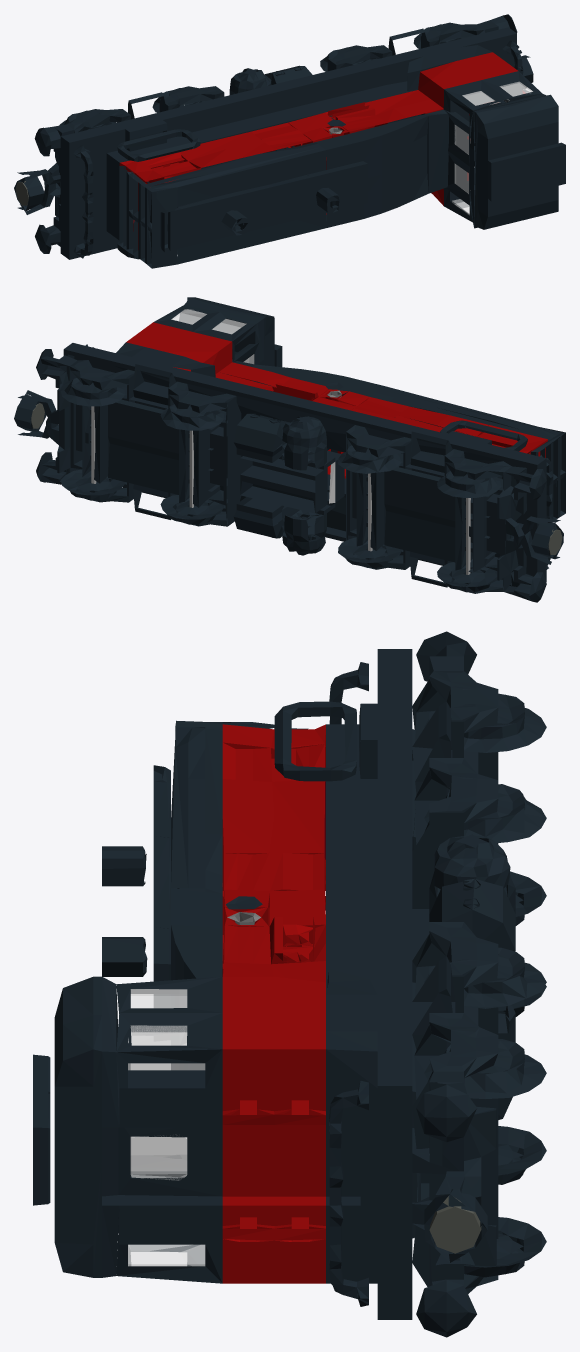
File: switcher-2.glb
3 views of the same model, one above another, from view 1: azimuth 30°, elevation 25°; view 2: azimuth 150°, elevation 25°; view 3: azimuth 270°, elevation 25° (orthographic). The views are drawn at different scales.
Bounding box in the file's own units: 216 × 57.13 × 95.4.
